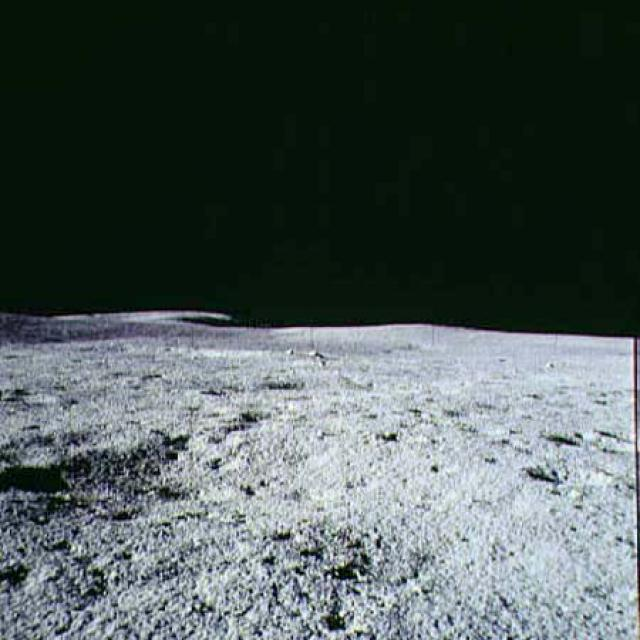crater: (16, 431, 381, 526), (258, 373, 488, 405), (512, 452, 606, 500), (548, 414, 620, 463)
